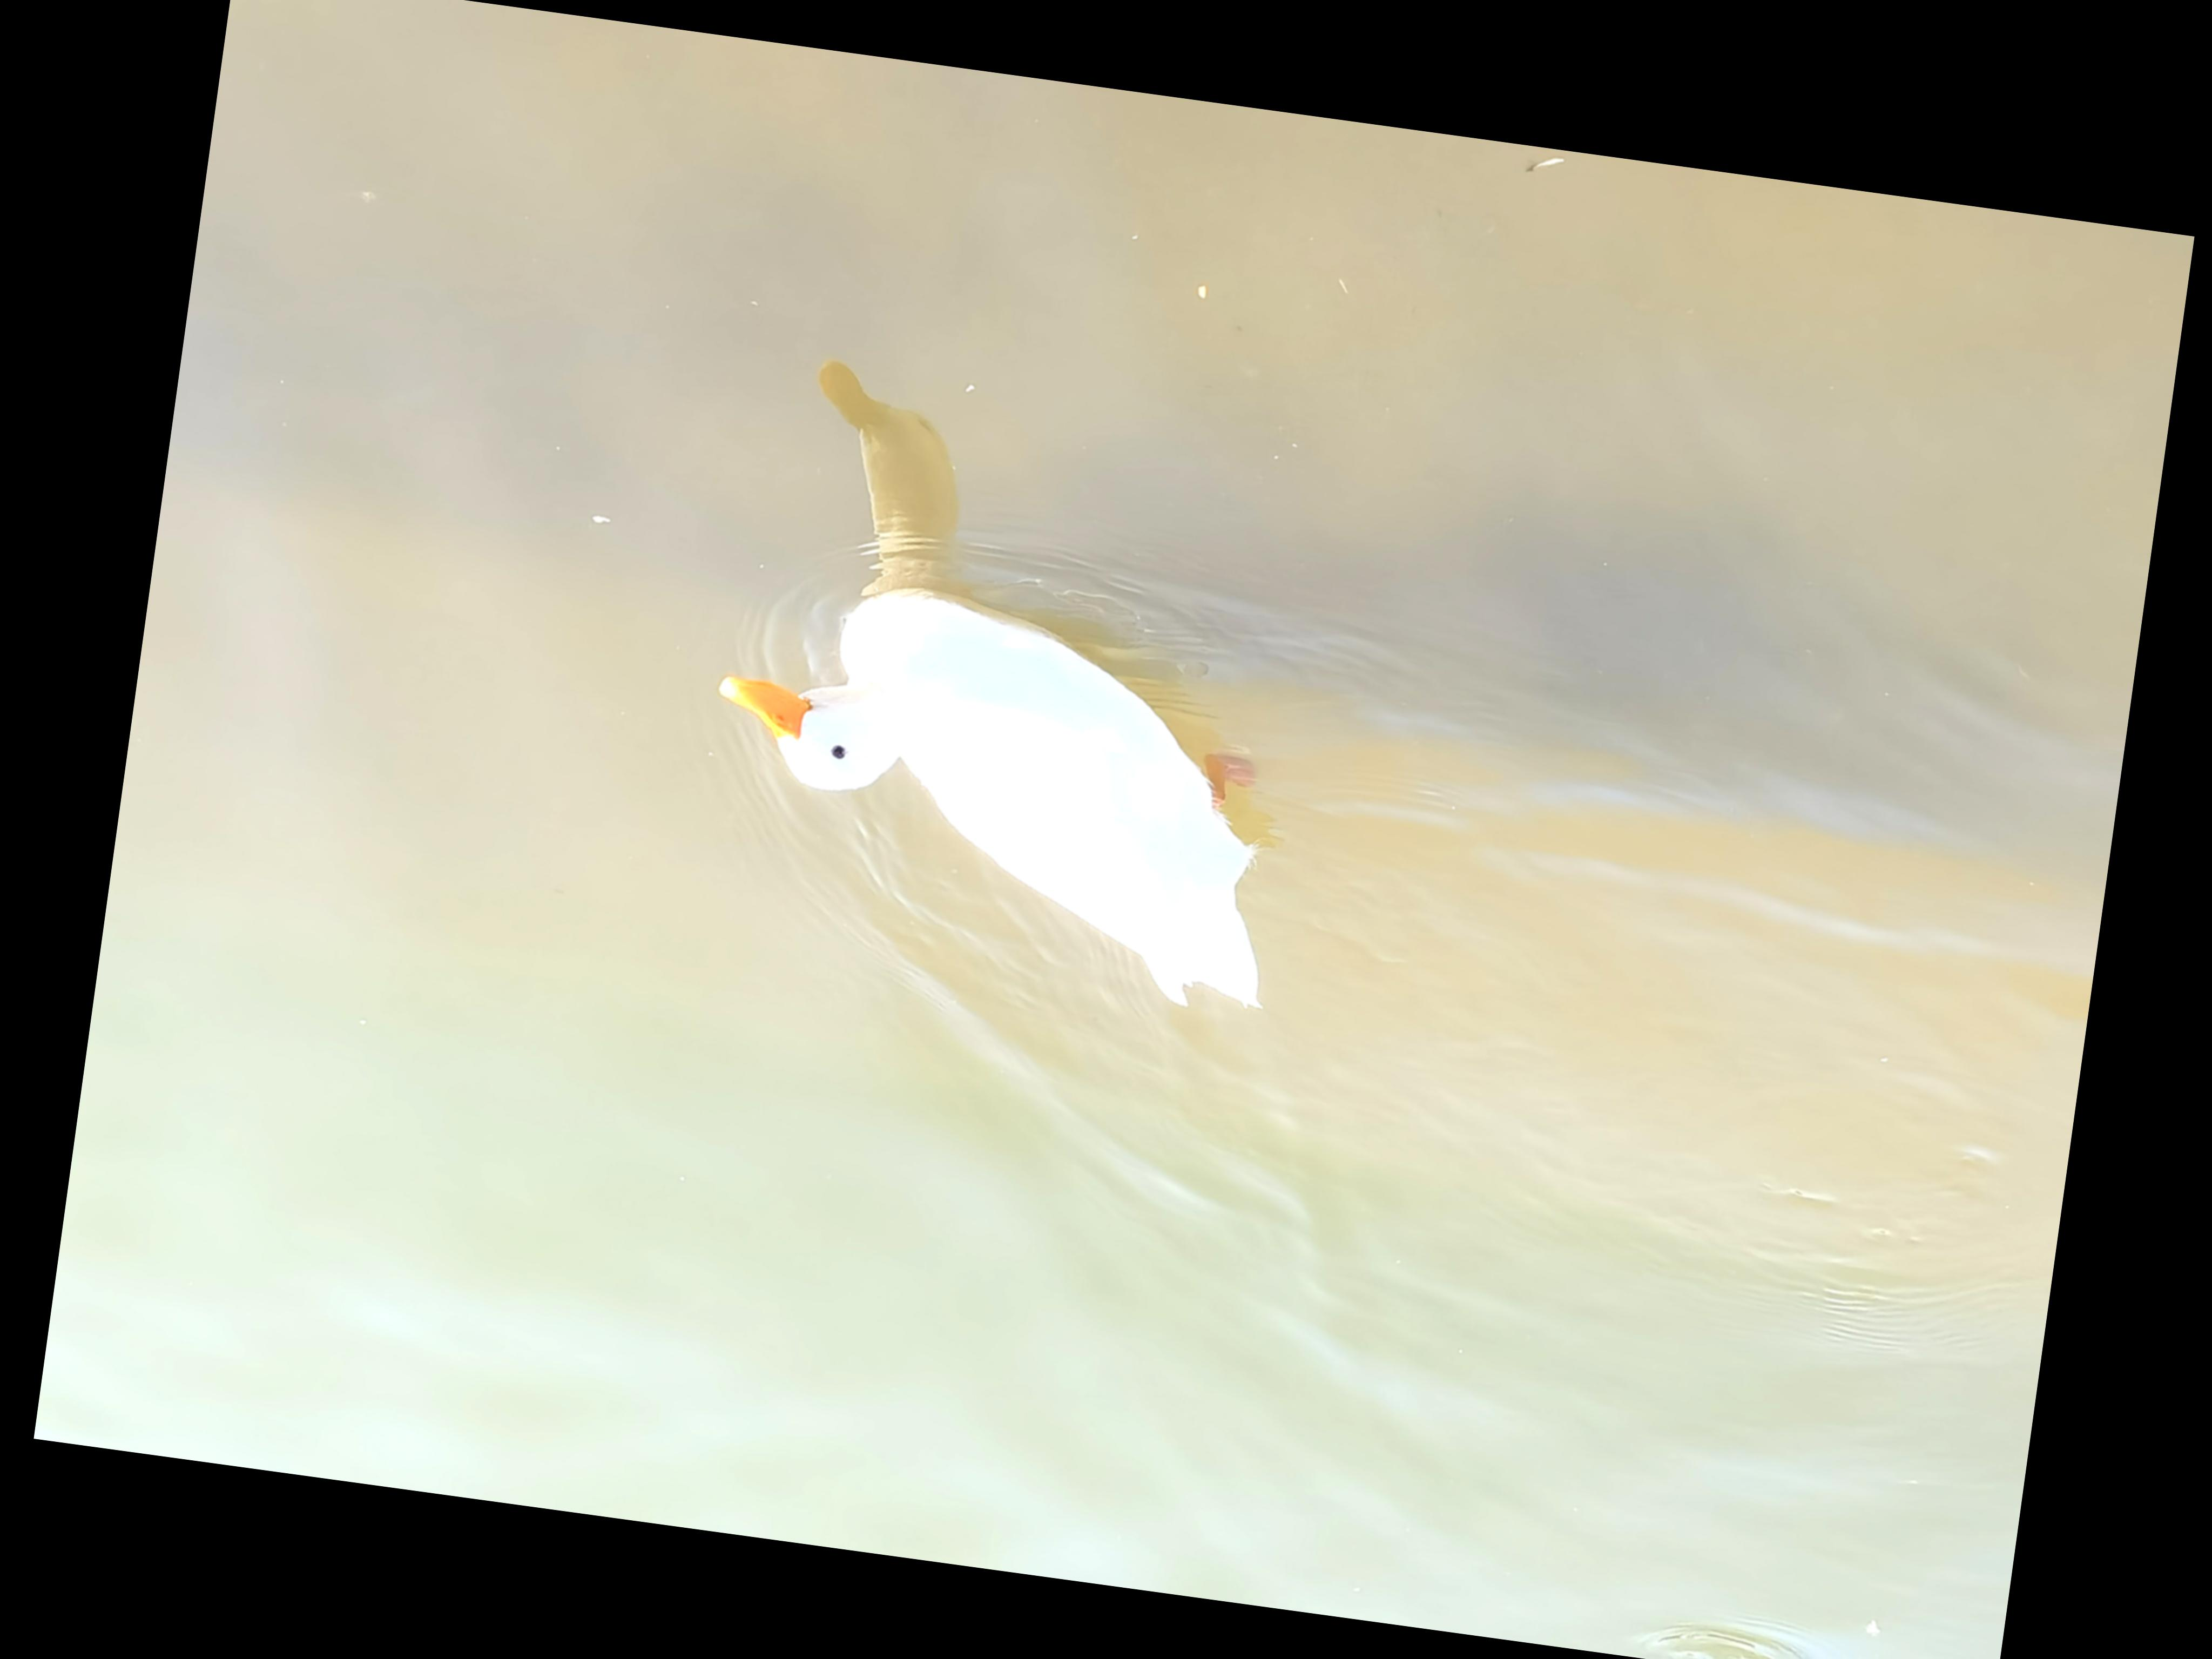duck: (665, 530, 1334, 1040)
